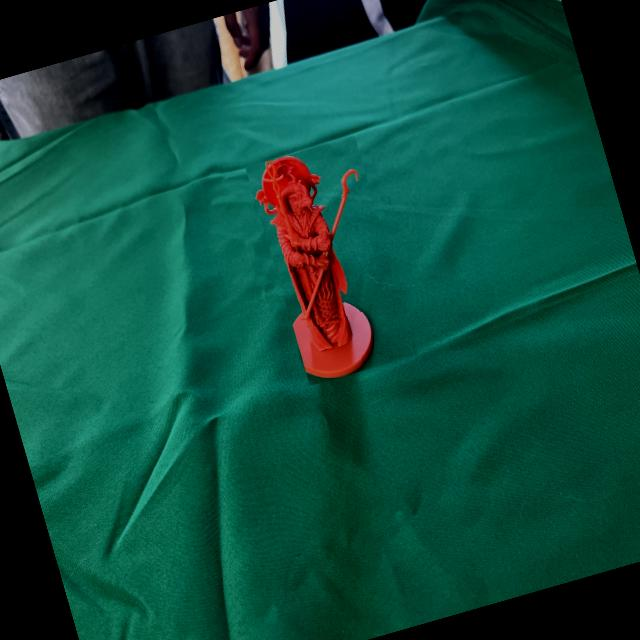amon: (246, 135, 418, 386)
